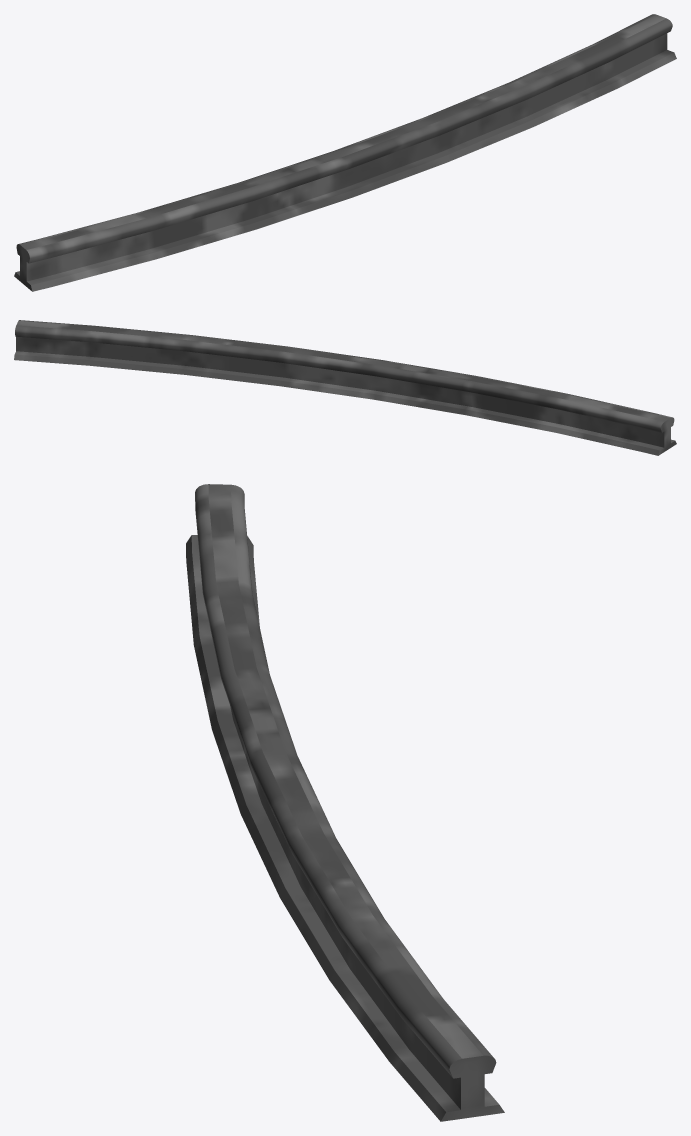
The model's file is Rail Piece 4.fbx.
The picture shows the model from 3 angles, top to bottom: view 1: azimuth 30°, elevation 25°; view 2: azimuth 150°, elevation 25°; view 3: azimuth 270°, elevation 25°; orthographic projection. The views are drawn at different scales.
Visible parts, largest first — view 1: Rail_Piece_4; view 2: Rail_Piece_4; view 3: Rail_Piece_4.
Part boxes in pixels (box(x1,y1,x2,y2)): Rail_Piece_4: box(14, 14, 676, 291); Rail_Piece_4: box(14, 320, 676, 455); Rail_Piece_4: box(186, 484, 504, 1121).
Size of the model in its own units: 346 by 16.75 by 80.7.
Materials: 1 (1 with a texture image).
